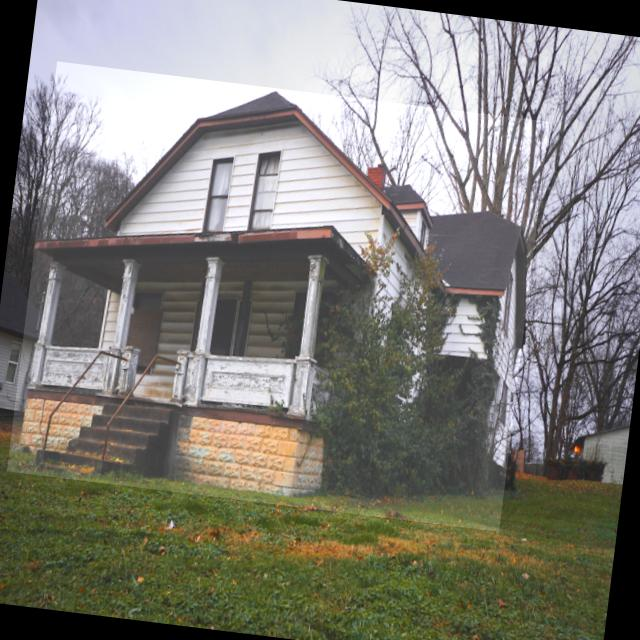House: (6, 61, 549, 532)
